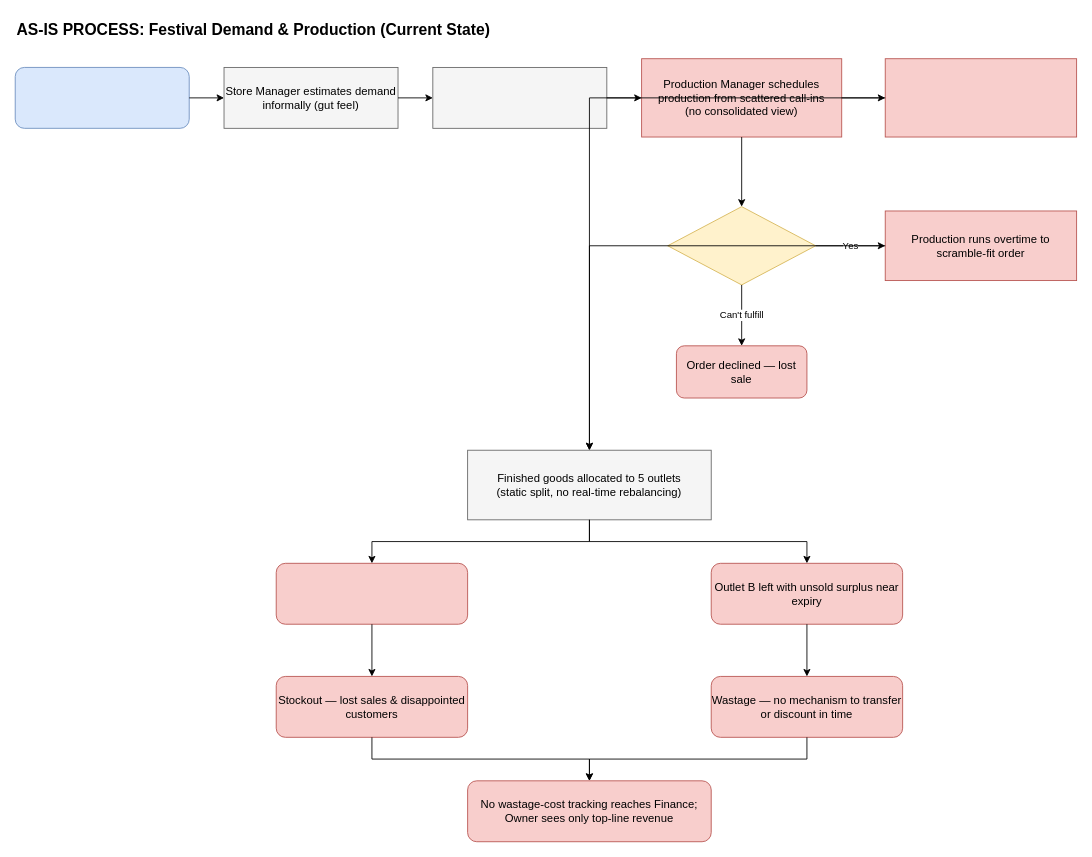
Some shapes in this 1092 by 857 pixel diagram are drawn without their labels. Here are the shapes that lost their labels. From the top down, the centre of each, then its label:
the point at 101,97: Customer places order / walk-in demand at outlet
the point at 519,97: Store Manager calls/WhatsApps Production Manager
the point at 980,97: Procurement orders raw materials reactively, often last-minute
the point at 741,245: Bulk/advance order arrives late?
the point at 371,593: Outlet A sells out of popular item
